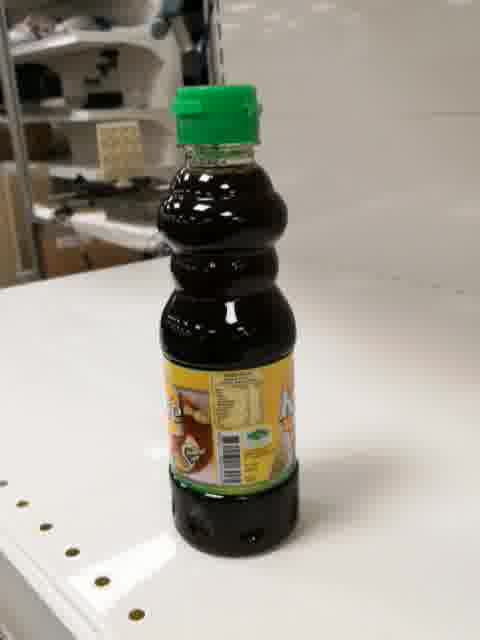cookingoil: (154, 81, 304, 561)
